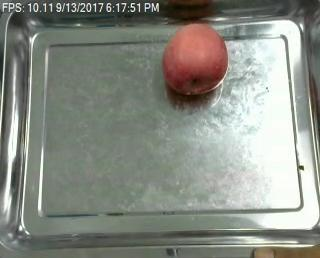apple: (162, 23, 230, 94)
